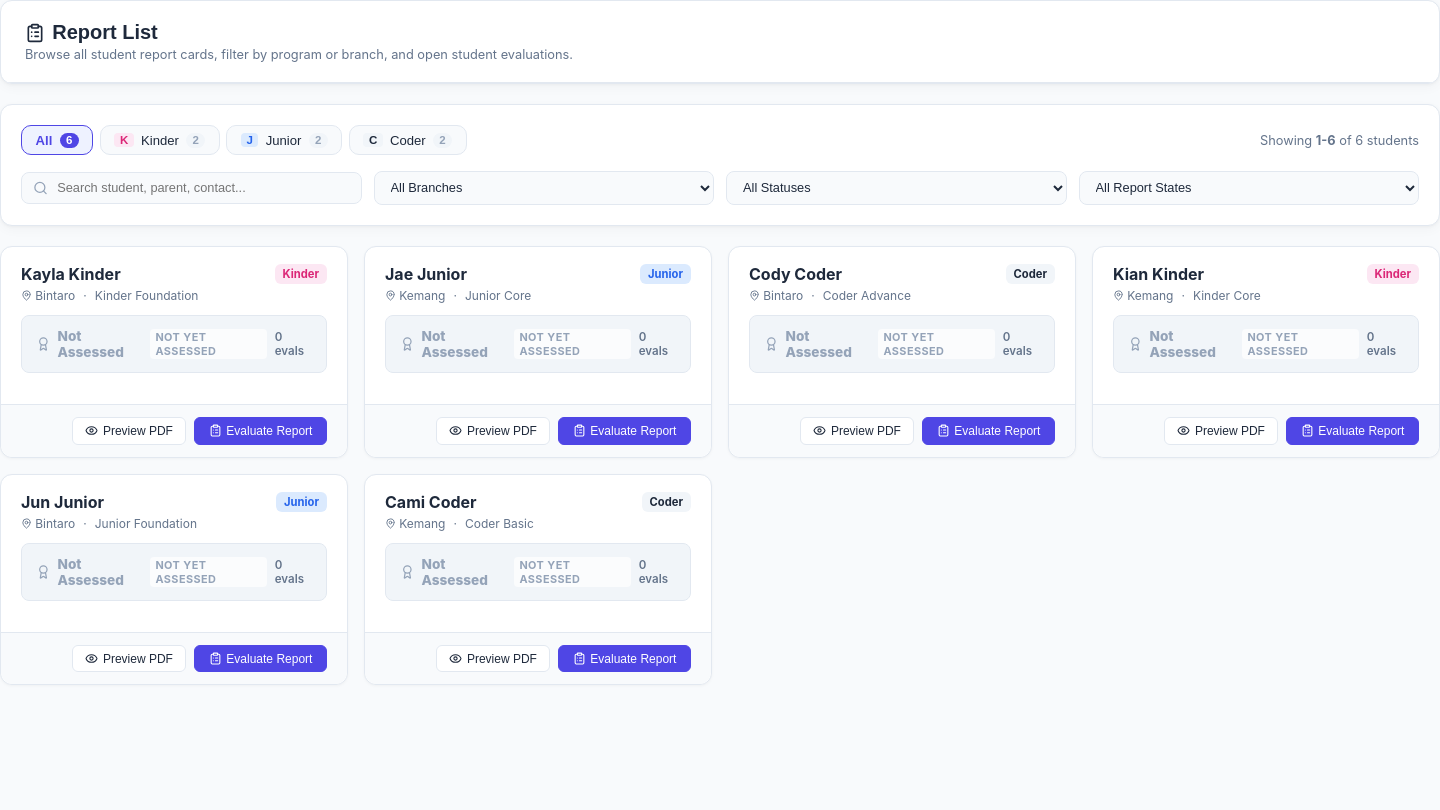
Scenario: program tabs (Req 6.7) › partitions the registry: every student is listed under exactly one tab
The image size is (1440, 810).
Click the button "K Kinder 2": (160, 140) [100, 125, 220, 155]
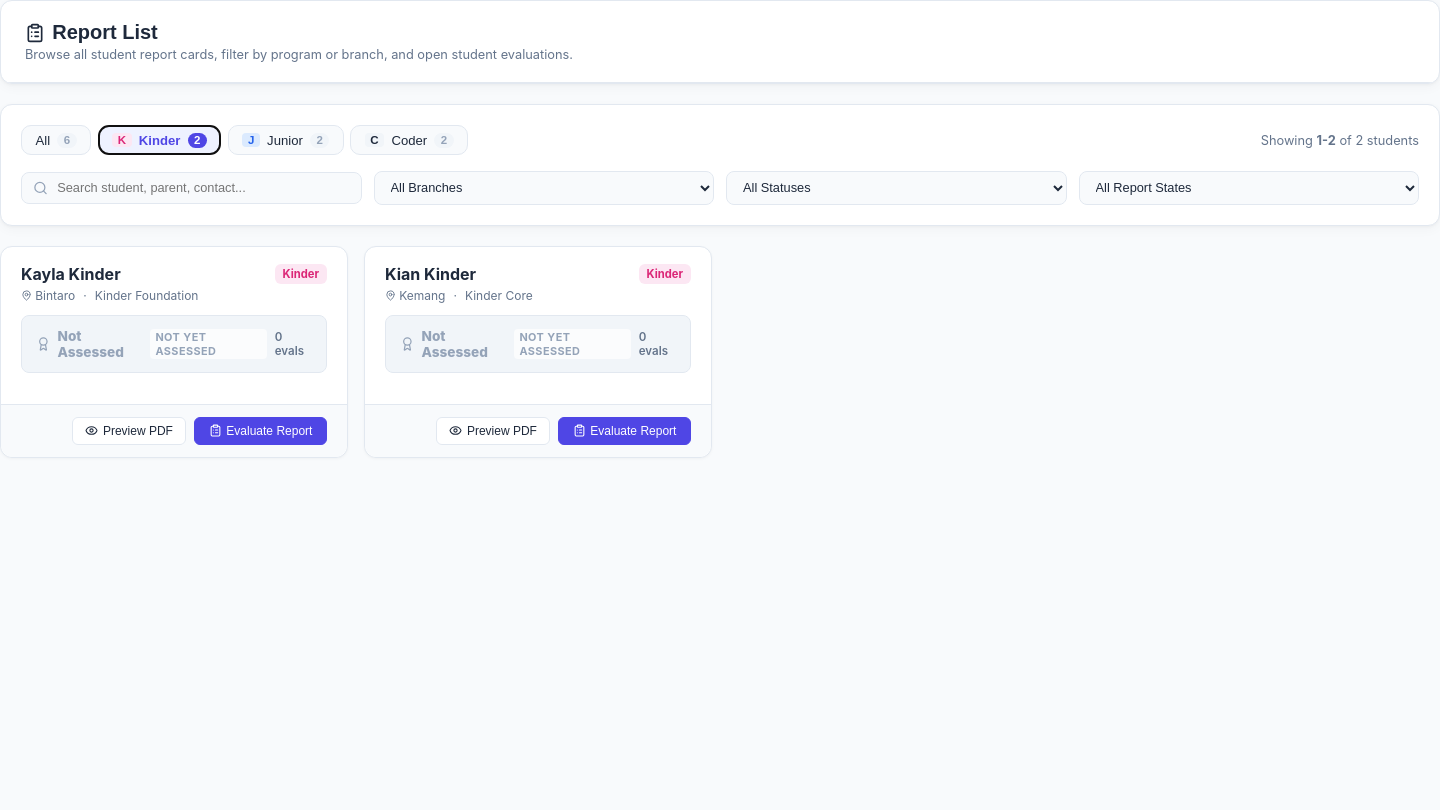
Now the number of buttons "Evaluate Report" is 2, box [194, 417, 327, 444]; [558, 417, 691, 444]
Click the button "J Junior 2": (286, 140) [228, 125, 344, 155]
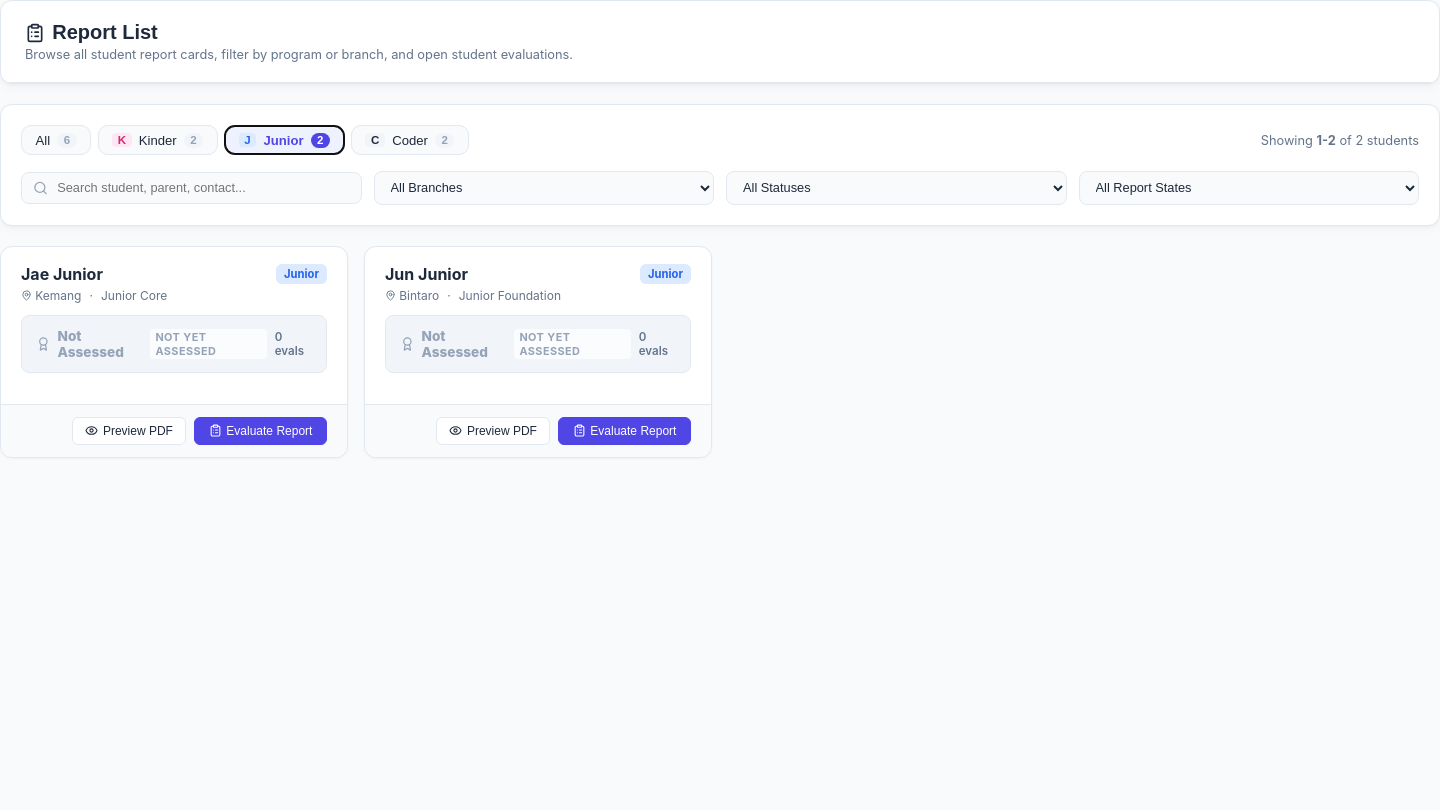
Now the number of buttons "Evaluate Report" is 2, box [194, 417, 327, 444]; [558, 417, 691, 444]
Click the button "C Coder 2": (410, 140) [351, 125, 469, 155]
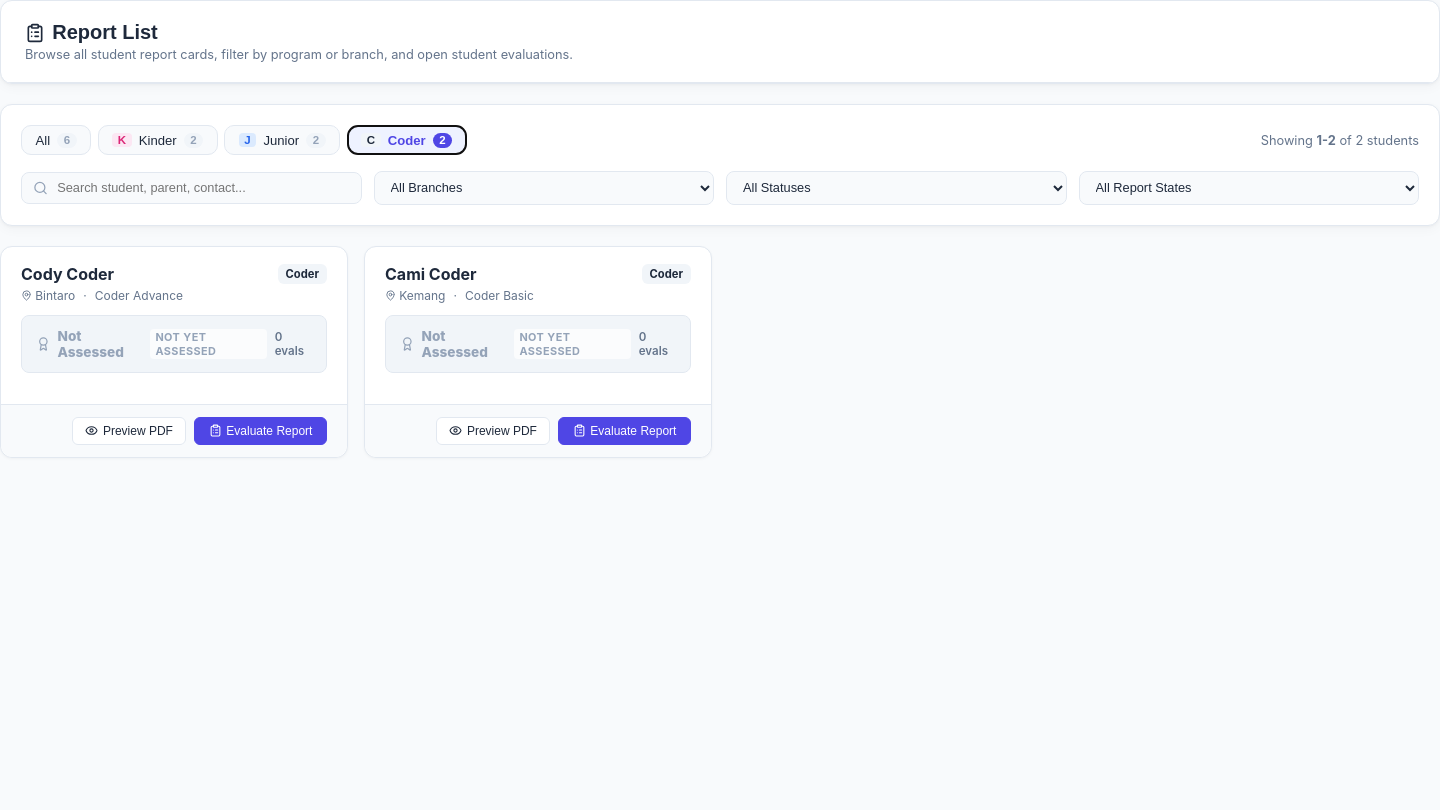
Now the number of buttons "Evaluate Report" is 2, box [194, 417, 327, 444]; [558, 417, 691, 444]
Now the heading "Cody Coder" is shown, box [21, 264, 114, 284]
Now the text "Coder Advance" is shown, box [95, 288, 183, 303]
